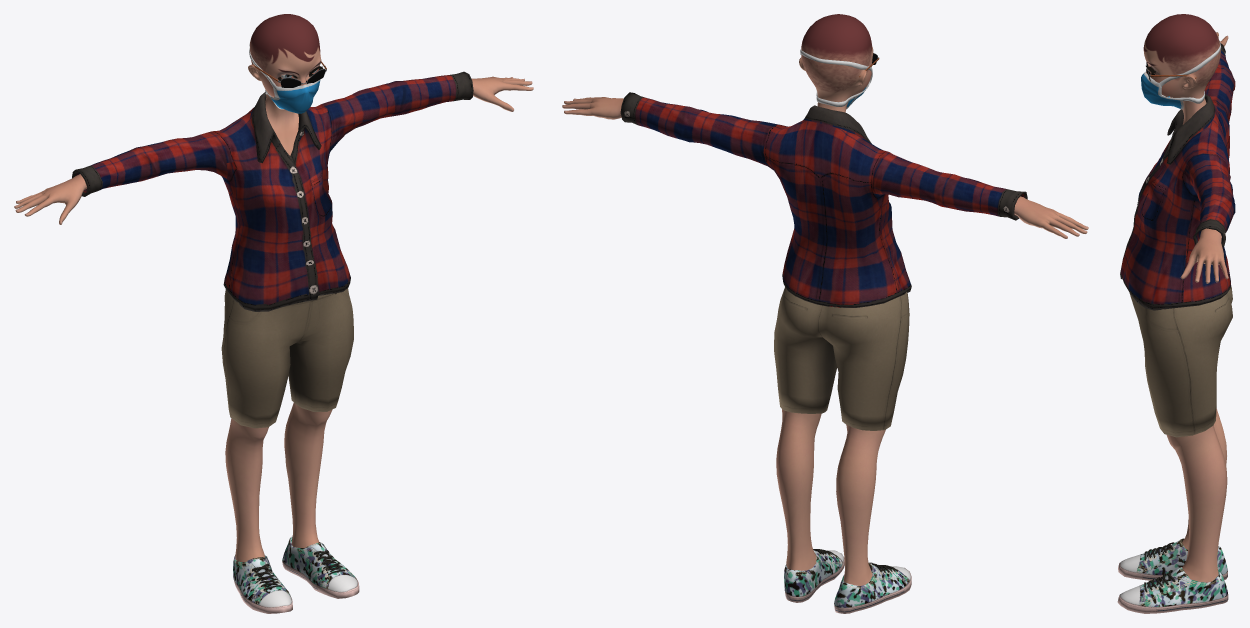
File: unitychar.obj
The picture shows the model from 3 angles, left to right: view 1: azimuth 30°, elevation 25°; view 2: azimuth 150°, elevation 25°; view 3: azimuth 270°, elevation 25°; orthographic projection.
Visible parts, largest first — view 1: Tops, Body, Bottoms, Shoes, Masks; view 2: Tops, Body, Bottoms, Shoes; view 3: Tops, Body, Bottoms, Shoes, Masks.
Part boxes in pixels (bbox=[...]): Tops: bbox=[72, 71, 473, 311]; Body: bbox=[14, 14, 533, 562]; Bottoms: bbox=[221, 288, 353, 428]; Shoes: bbox=[233, 536, 359, 613]; Masks: bbox=[249, 41, 320, 113]; Tops: bbox=[620, 92, 1027, 307]; Body: bbox=[562, 14, 1088, 585]; Bottoms: bbox=[774, 287, 909, 430]; Shoes: bbox=[784, 549, 911, 613]; Tops: bbox=[1120, 43, 1235, 310]; Body: bbox=[1143, 14, 1228, 582]; Bottoms: bbox=[1129, 286, 1232, 437]; Shoes: bbox=[1117, 538, 1228, 613]; Masks: bbox=[1141, 40, 1221, 109].
Bounding box in the file's own units: 160 × 168 × 31.32.
Materials: 6 (6 with a texture image).
